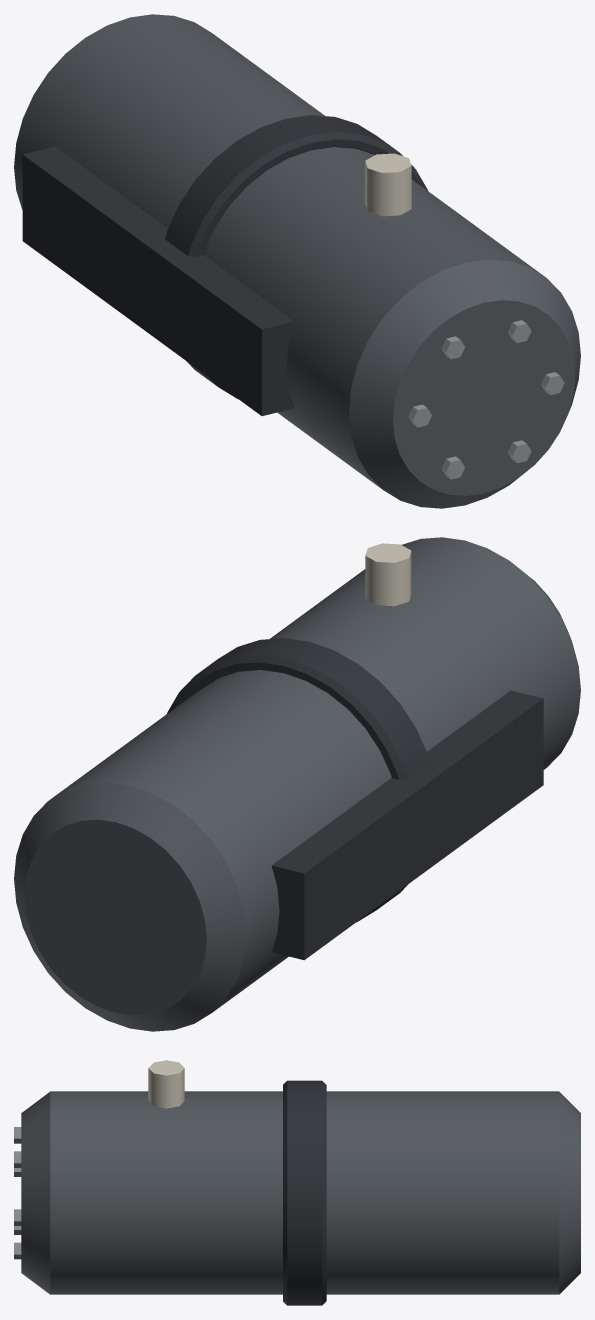
File: sr150_starter.obj
The picture shows the model from 3 angles, top to bottom: view 1: azimuth 30°, elevation 25°; view 2: azimuth 150°, elevation 25°; view 3: azimuth 270°, elevation 25°; orthographic projection. The views are drawn at different scales.
Parts seen in each view (by area): view 1: sr150_starter; view 2: sr150_starter; view 3: sr150_starter.
Part boxes in pixels (x1=…): sr150_starter: x1=14, y1=14, x2=580, y2=508; sr150_starter: x1=14, y1=537, x2=580, y2=1031; sr150_starter: x1=14, y1=1060, x2=580, y2=1305.
Bounding box in the file's own units: 0.325 × 0.345 × 0.78.
